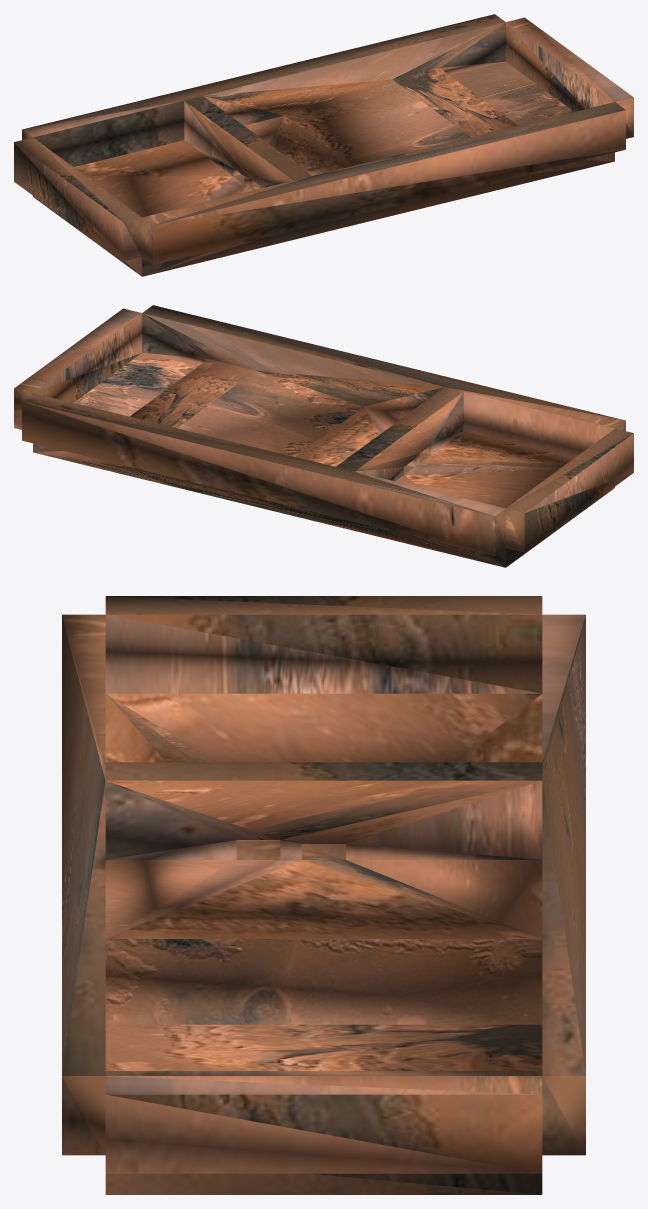
File: scenario_3.dae
The picture shows the model from 3 angles, top to bottom: view 1: azimuth 30°, elevation 25°; view 2: azimuth 150°, elevation 25°; view 3: azimuth 270°, elevation 25°; orthographic projection. The views are drawn at different scales.
Visible parts, largest first — view 1: scenario_3; view 2: scenario_3; view 3: scenario_3.
Boxes of the visible parts, x1,y1,x2,y2 form: scenario_3: (14, 14, 633, 276); scenario_3: (14, 305, 633, 567); scenario_3: (62, 596, 585, 1194).
Bounding box in the file's own units: 27 × 12 × 3.
Materials: 1 (1 with a texture image).
